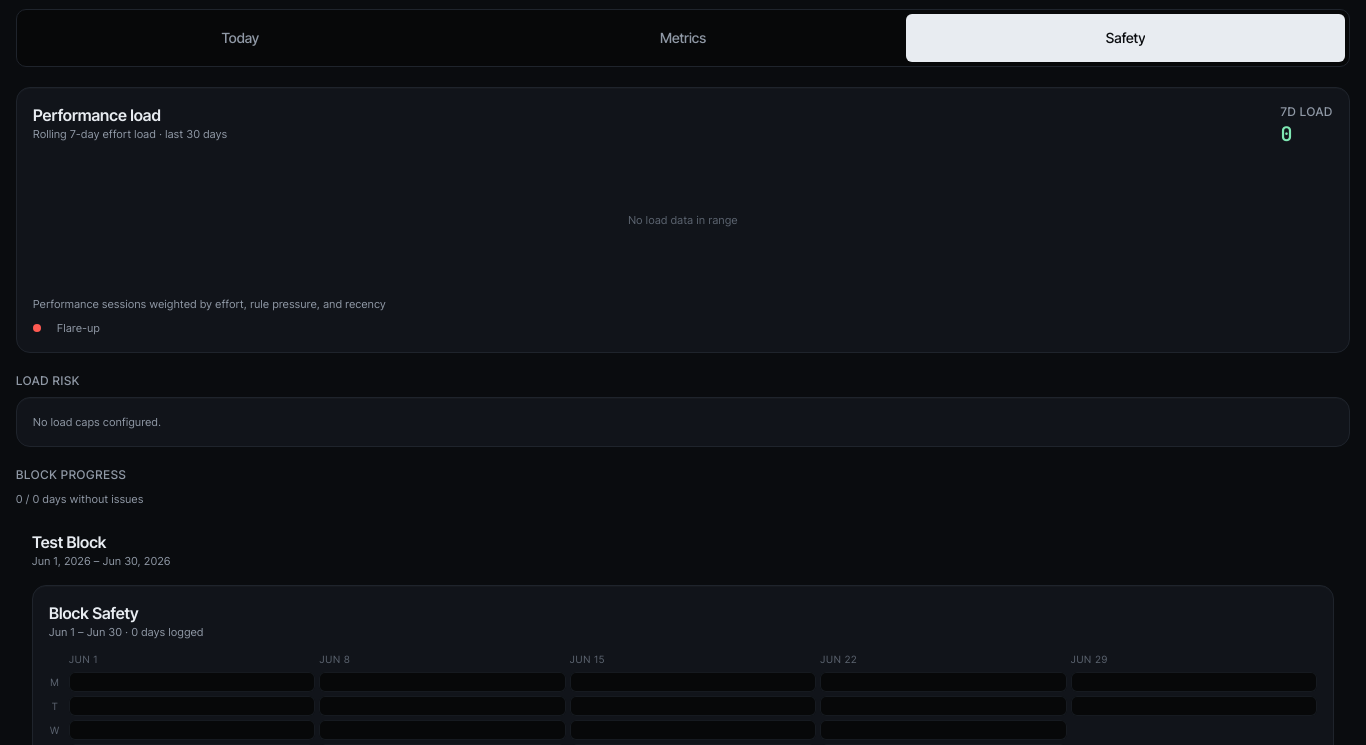
Scenario: DashboardScreen — activity status expandable detail › keeps only one activity status row expanded at a time
Click the radio button labelled "Safety": (1126, 38) [906, 14, 1345, 62]
(page scrolled)
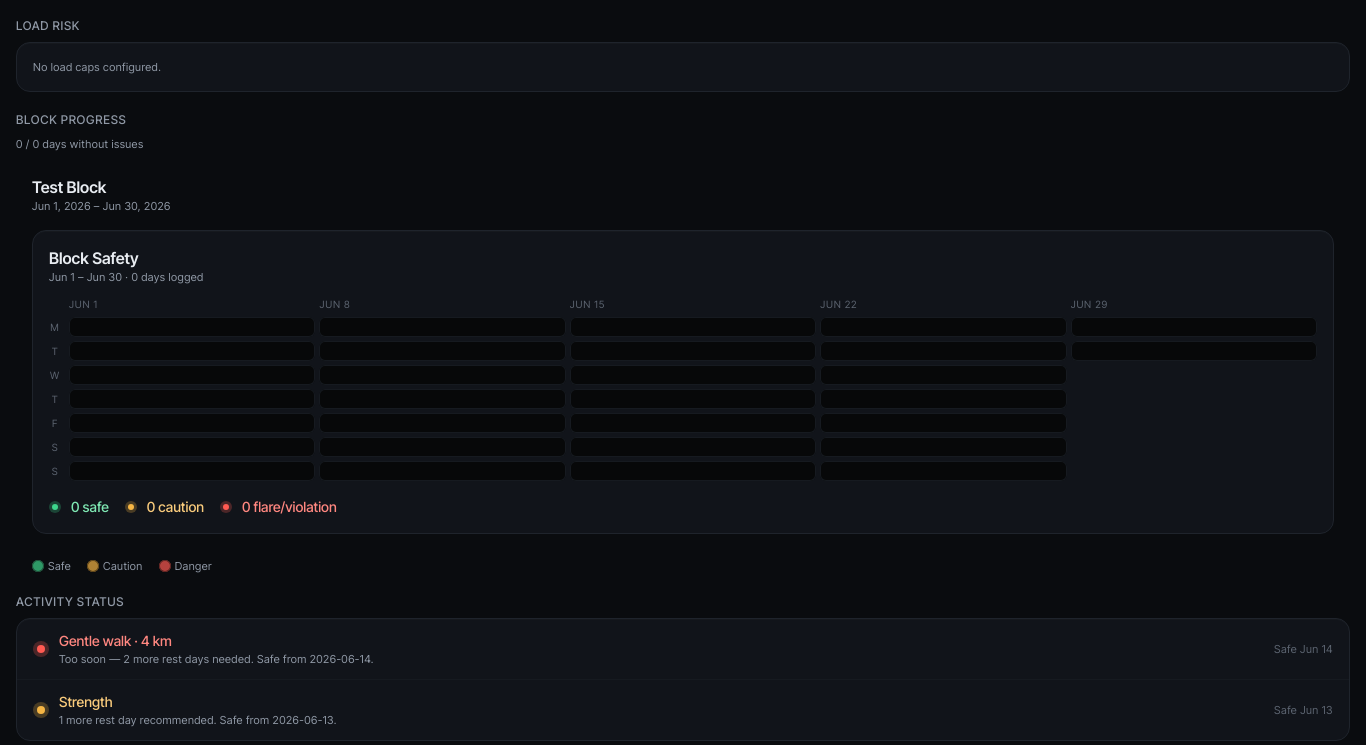
Click the button "Gentle walk": (115, 640) [17, 619, 1349, 679]
(page scrolled)
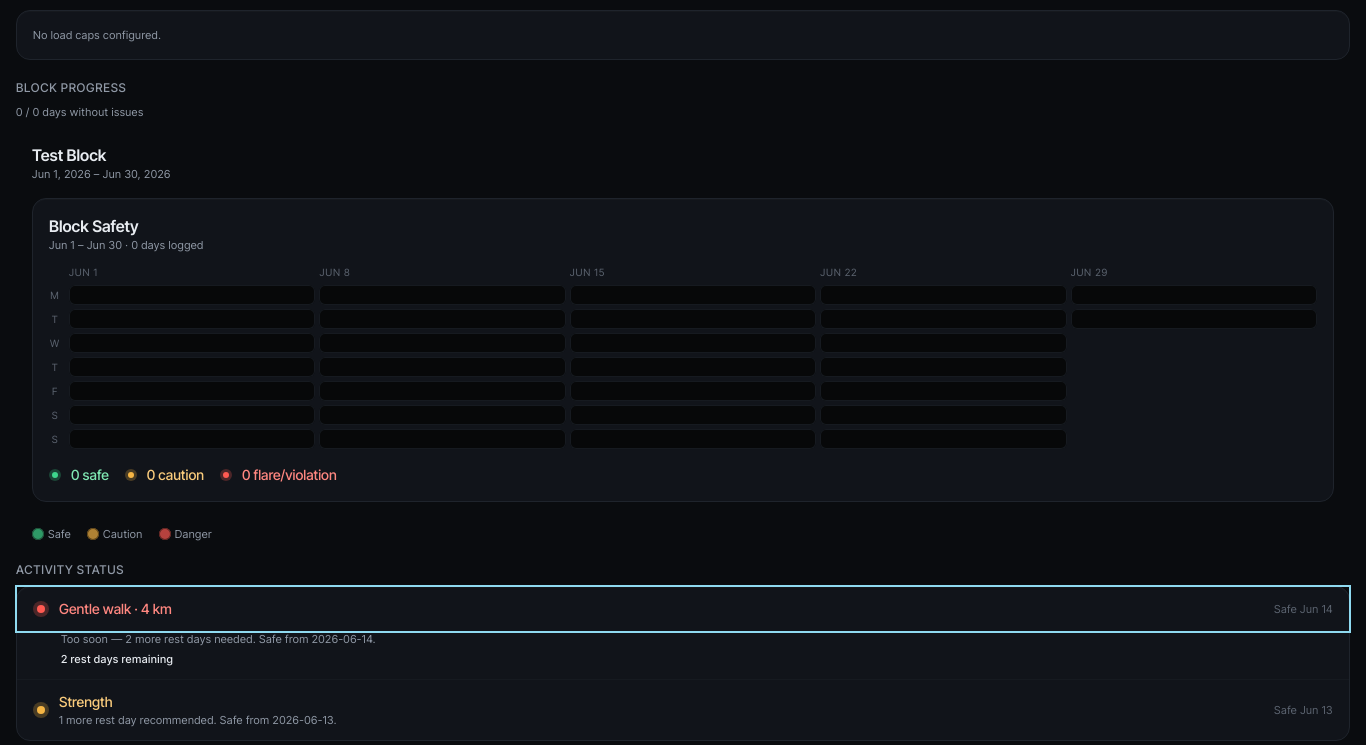
Now the button "Gentle walk · 4 km Safe Jun 14" is expanded, box [17, 587, 1349, 631]
Now the text "2 rest days remaining" is shown, box [61, 652, 173, 666]
Click the button "Strength": (86, 702) [17, 680, 1349, 740]
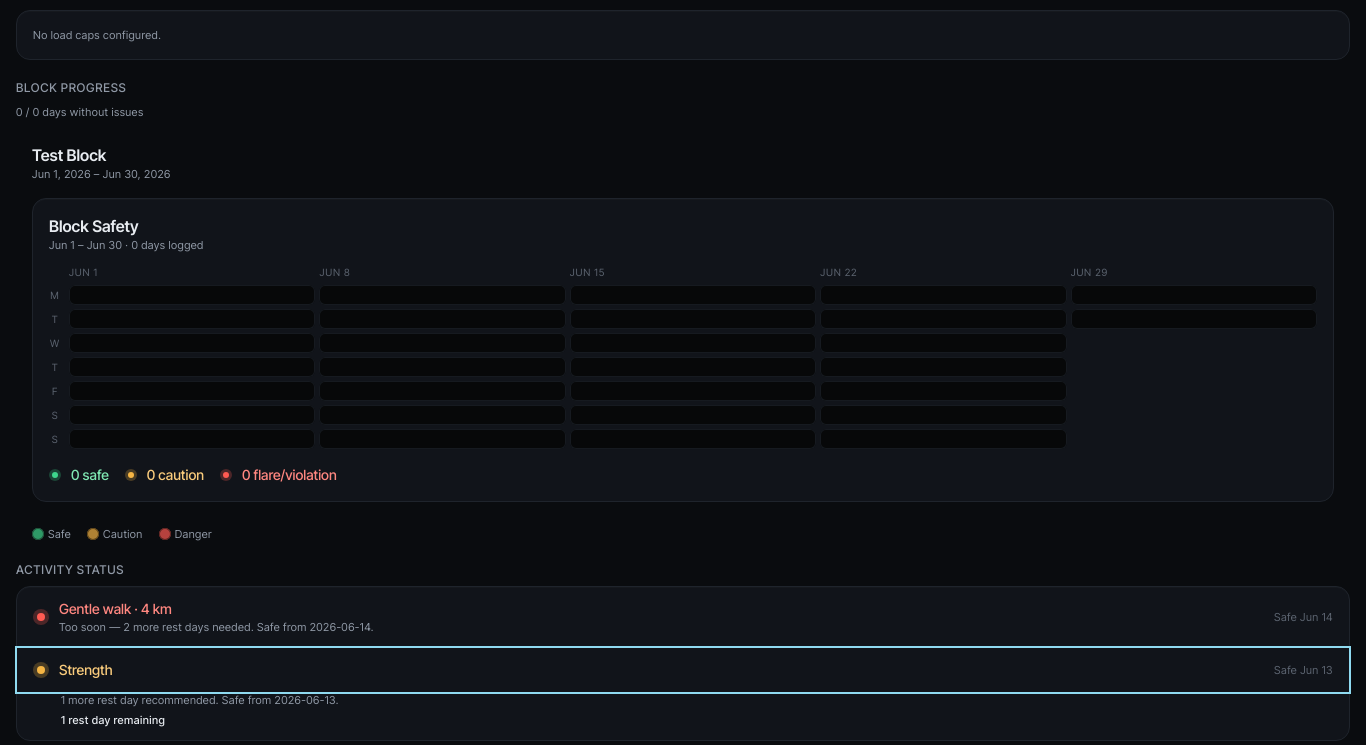
Now the button "Gentle walk" is collapsed, box [17, 587, 1349, 647]
Now the button "Strength Safe Jun 13" is expanded, box [17, 648, 1349, 692]
Now the text "2 rest days remaining" is gone
